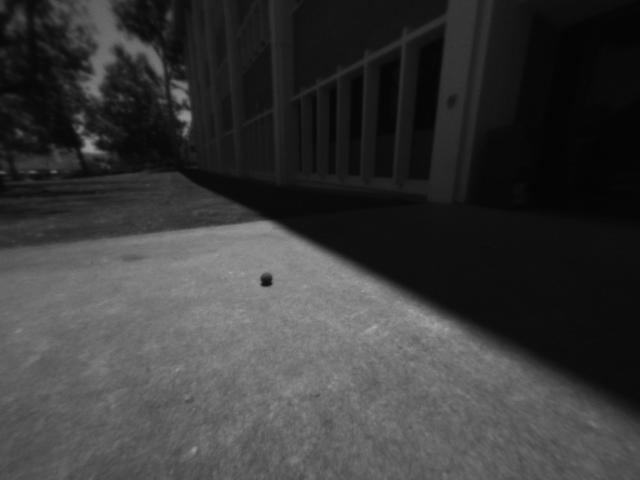dogtoy: (255, 265, 279, 291)
